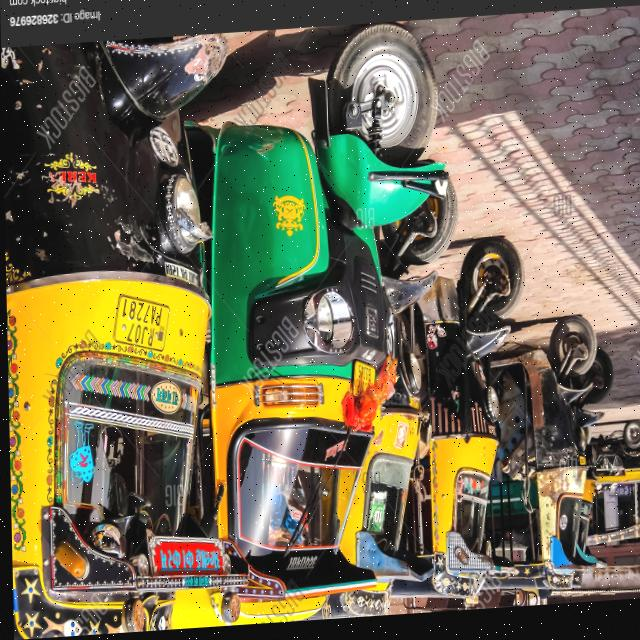plate: (109, 291, 172, 364)
